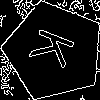K: (29, 26, 85, 74)
